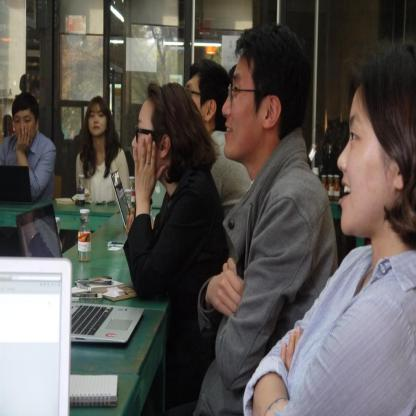board: (14, 201, 145, 346), (0, 256, 72, 416), (0, 163, 37, 205), (109, 169, 132, 227), (77, 209, 92, 262), (76, 174, 86, 206), (129, 177, 136, 211), (334, 174, 341, 200), (327, 176, 333, 200), (322, 176, 327, 189)
